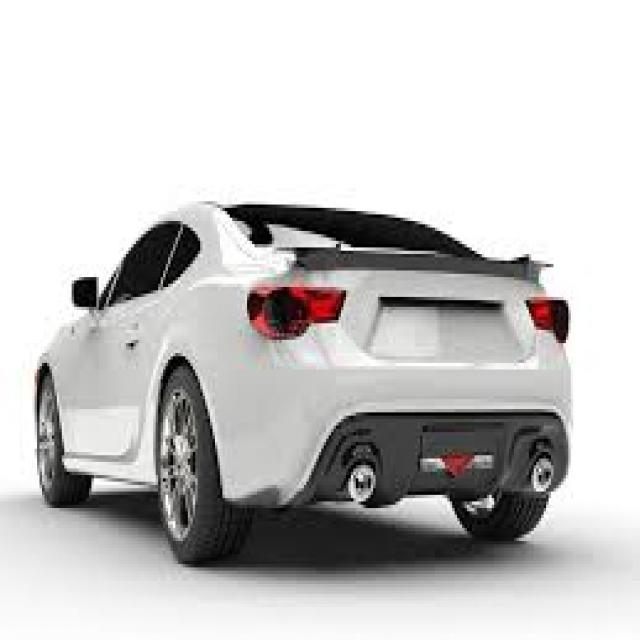car: (25, 195, 578, 558)
